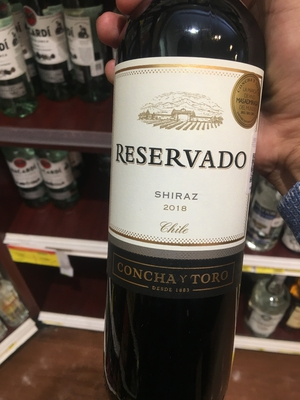reservado shiraz: (97, 15, 271, 400)
